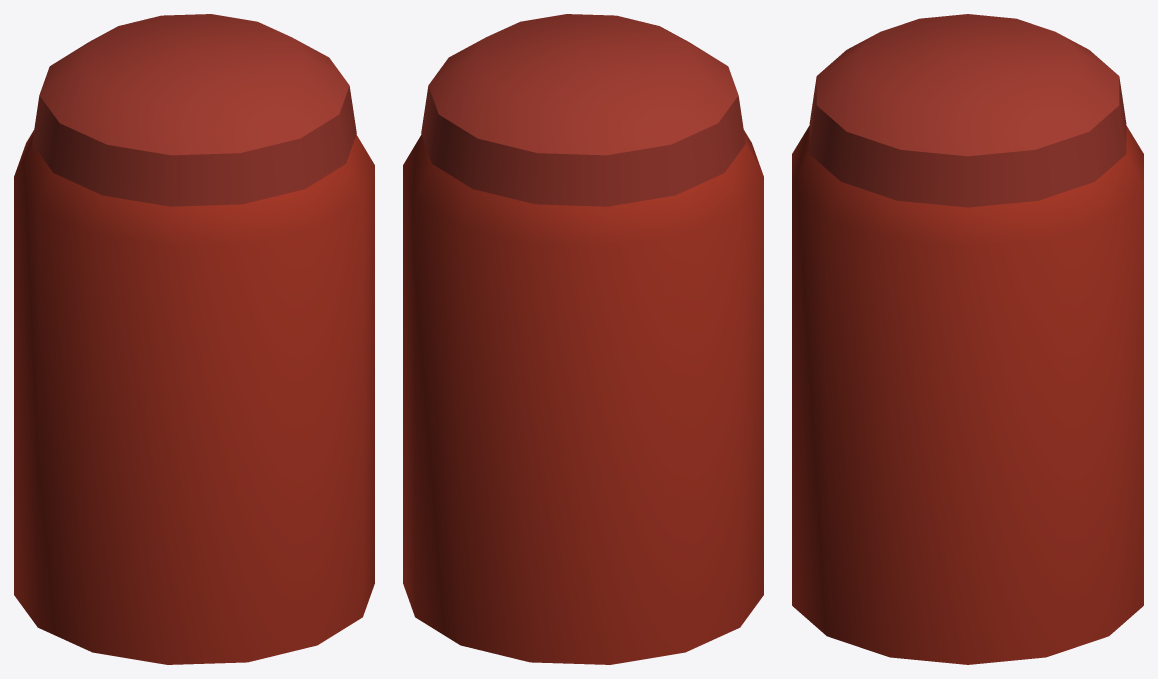
File: tpl_dispensa_vaso_m_pomodori.glb
The picture shows the model from 3 angles, left to right: view 1: azimuth 30°, elevation 25°; view 2: azimuth 150°, elevation 25°; view 3: azimuth 270°, elevation 25°; orthographic projection.
Visible parts, largest first — view 1: tpl_dispensa_vaso_m_pomodori; view 2: tpl_dispensa_vaso_m_pomodori; view 3: tpl_dispensa_vaso_m_pomodori.
Boxes of the visible parts, left/top/right/bottom form: tpl_dispensa_vaso_m_pomodori: left=14, top=14, right=374, bottom=664; tpl_dispensa_vaso_m_pomodori: left=403, top=14, right=763, bottom=664; tpl_dispensa_vaso_m_pomodori: left=792, top=14, right=1143, bottom=664.
Size of the model in its own units: 0.11 by 0.18 by 0.1072.
